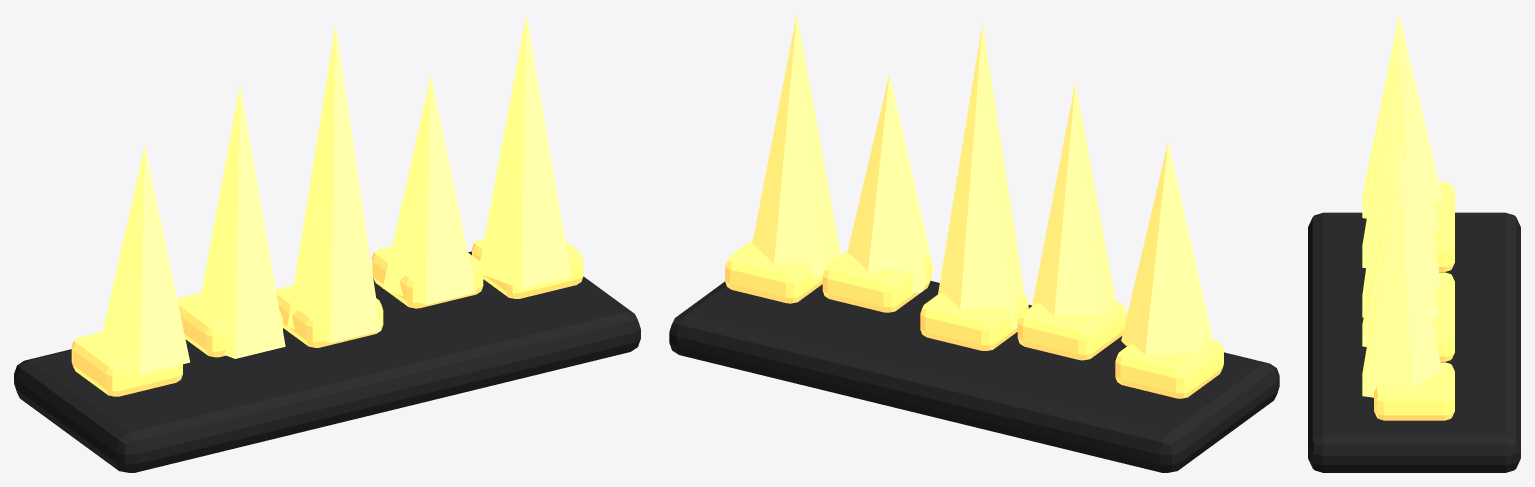
File: fire.glb
3 views of the same model, side by side, from view 1: azimuth 30°, elevation 25°; view 2: azimuth 150°, elevation 25°; view 3: azimuth 270°, elevation 25° (orthographic). The views are drawn at different scales.
Parts seen in each view (by area): view 1: fire; view 2: fire; view 3: fire.
Part boxes in pixels (x1,y1,x2,y2): fire: [14, 14, 640, 472]; fire: [669, 14, 1279, 472]; fire: [1308, 14, 1520, 472].
Bounding box in the file's own units: 1.1 × 0.72 × 0.42.
